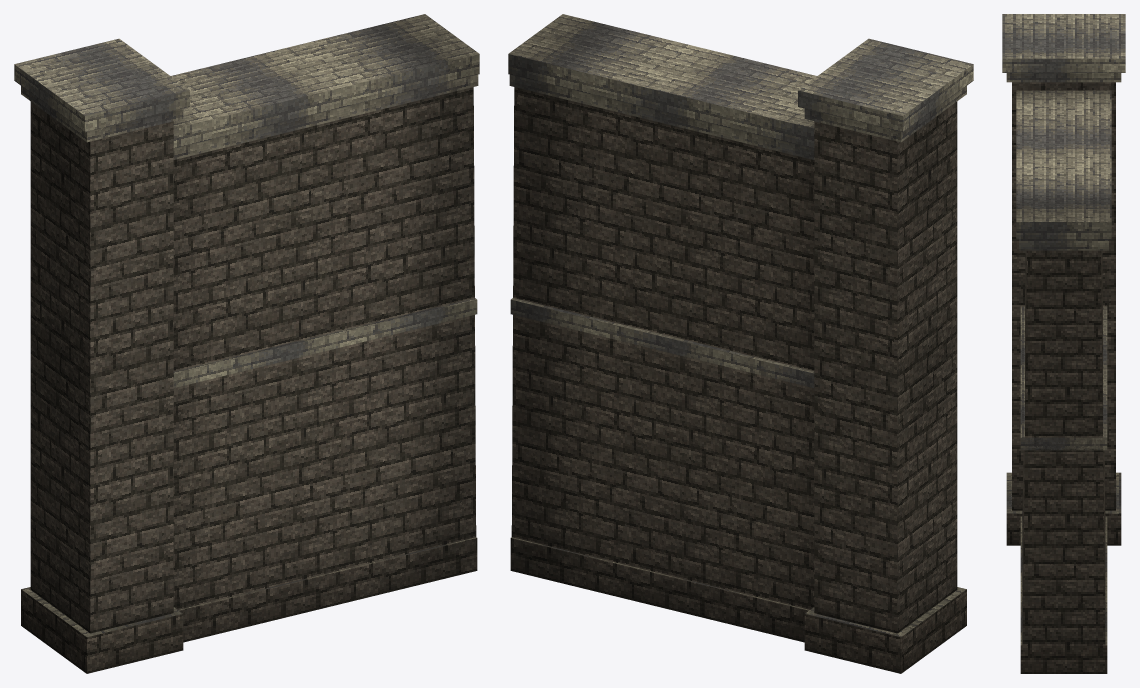
File: hall_wall_tall.glb
3 renders of one model, left to right at view 1: azimuth 30°, elevation 25°; view 2: azimuth 150°, elevation 25°; view 3: azimuth 270°, elevation 25°, orthographic. The views are drawn at different scales.
Visible parts, largest first — view 1: hall_wall_tall; view 2: hall_wall_tall; view 3: hall_wall_tall.
Part boxes in pixels (bbox=[...]): hall_wall_tall: bbox=[14, 14, 479, 673]; hall_wall_tall: bbox=[508, 14, 973, 673]; hall_wall_tall: bbox=[1002, 14, 1125, 673].
Bounding box in the file's own units: 4.6 × 6.12 × 1.4.
Materials: 2 (2 with a texture image).
